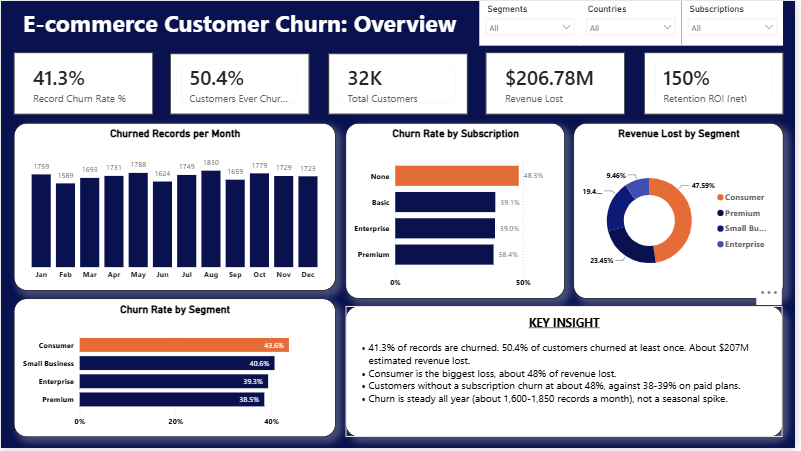

This screenshot's page, from the dashboard's own definition file:
{"tool":"powerbi","page":{"name":"Overview","canvas":[1280,720],"ordinal":0},"visuals":[{"type":"textbox","box":[0,4.7,769.3,81.1],"z":0},{"type":"slicer","fields":{"Values":["Customers.customer_segment"]},"box":[770,0,163.3,71.7],"z":1000},{"type":"slicer","fields":{"Values":["Customers.customer_country"]},"box":[933.3,0,163.8,71.8],"z":2000},{"type":"slicer","fields":{"Values":["Customers.subscription_type"]},"box":[1096.7,0,163.8,71.8],"z":3000},{"type":"cardVisual","fields":{"Data":["_Measures.Churn Rate %"]},"box":[20.3,82.7,224.7,99.9],"z":4000},{"type":"cardVisual","fields":{"Data":["_Measures.Customer Churn %"]},"box":[273.1,84.3,224.7,98.3],"z":5000},{"type":"cardVisual","fields":{"Data":["_Measures.Total Customers"]},"box":[527.4,84.3,224.7,98.3],"z":6000},{"type":"cardVisual","fields":{"Data":["_Measures.Revenue Lost"]},"box":[780.2,82.7,224.7,99.9],"z":7000},{"type":"cardVisual","fields":{"Data":["_Measures.Retention ROI"]},"box":[1036.1,82.7,224.7,99.9],"z":8000},{"type":"clusteredColumnChart","title":"Churned Records per Month","fields":{"Y":["_Measures.Churned Records"],"Category":["Date.Month Name"]},"box":[20,196.7,518.3,270],"z":9000},{"type":"clusteredBarChart","title":"Churn Rate by Segment","fields":{"Category":["Customers.customer_segment"],"Y":["_Measures.Churn Rate %"]},"box":[20,480,518.3,223.3],"z":10000},{"type":"clusteredBarChart","title":"Churn Rate by Subscription","fields":{"Y":["_Measures.Churn Rate %"],"Category":["Customers.subscription_type"]},"box":[555,196.7,353.3,283.3],"z":11000},{"type":"donutChart","title":"Revenue Lost by Segment","fields":{"Category":["Customers.customer_segment"],"Y":["_Measures.Revenue Lost"]},"box":[921.7,196.7,338.3,283.3],"z":12000},{"type":"textbox","box":[555,491.7,705,211.7],"z":13000}]}

Visuals, with their boxes in screenshot pixels (x1, y1, x2, y2), scaled from the page's 1280x720 canvas onto the 801x451 screenshot:
textbox: [left=0, top=3, right=481, bottom=54]
slicer - Customers.customer_segment: [left=482, top=0, right=584, bottom=45]
slicer - Customers.customer_country: [left=584, top=0, right=687, bottom=45]
slicer - Customers.subscription_type: [left=686, top=0, right=789, bottom=45]
cardVisual - _Measures.Churn Rate %: [left=13, top=52, right=153, bottom=114]
cardVisual - _Measures.Customer Churn %: [left=171, top=53, right=312, bottom=114]
cardVisual - _Measures.Total Customers: [left=330, top=53, right=471, bottom=114]
cardVisual - _Measures.Revenue Lost: [left=488, top=52, right=629, bottom=114]
cardVisual - _Measures.Retention ROI: [left=648, top=52, right=789, bottom=114]
"Churned Records per Month" clusteredColumnChart: [left=13, top=123, right=337, bottom=292]
"Churn Rate by Segment" clusteredBarChart: [left=13, top=301, right=337, bottom=441]
"Churn Rate by Subscription" clusteredBarChart: [left=347, top=123, right=568, bottom=301]
"Revenue Lost by Segment" donutChart: [left=577, top=123, right=788, bottom=301]
textbox: [left=347, top=308, right=788, bottom=441]
